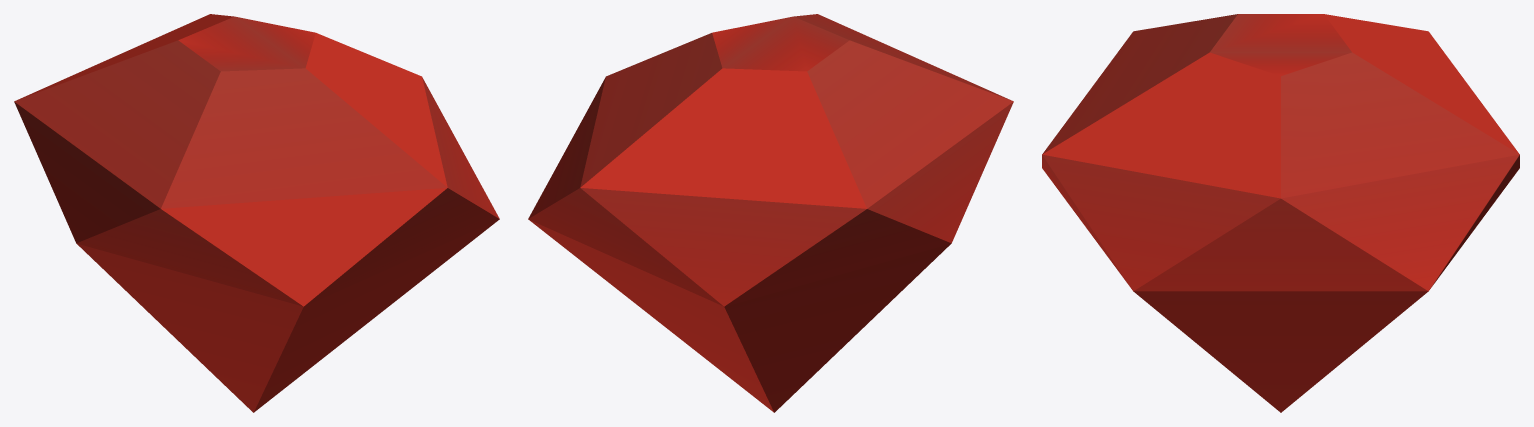
File: Red_stone_farm.fbx
The picture shows the model from 3 angles, left to right: view 1: azimuth 30°, elevation 25°; view 2: azimuth 150°, elevation 25°; view 3: azimuth 270°, elevation 25°; orthographic projection.
Visible parts, largest first — view 1: 2.015; view 2: 2.015; view 3: 2.015.
Part boxes in pixels (x1,y1,x2,y2): 2.015: (14, 14, 499, 412); 2.015: (528, 14, 1013, 412); 2.015: (1042, 14, 1519, 412).
Bounding box in the file's own units: 0.6572 × 0.7719 × 0.6638.
